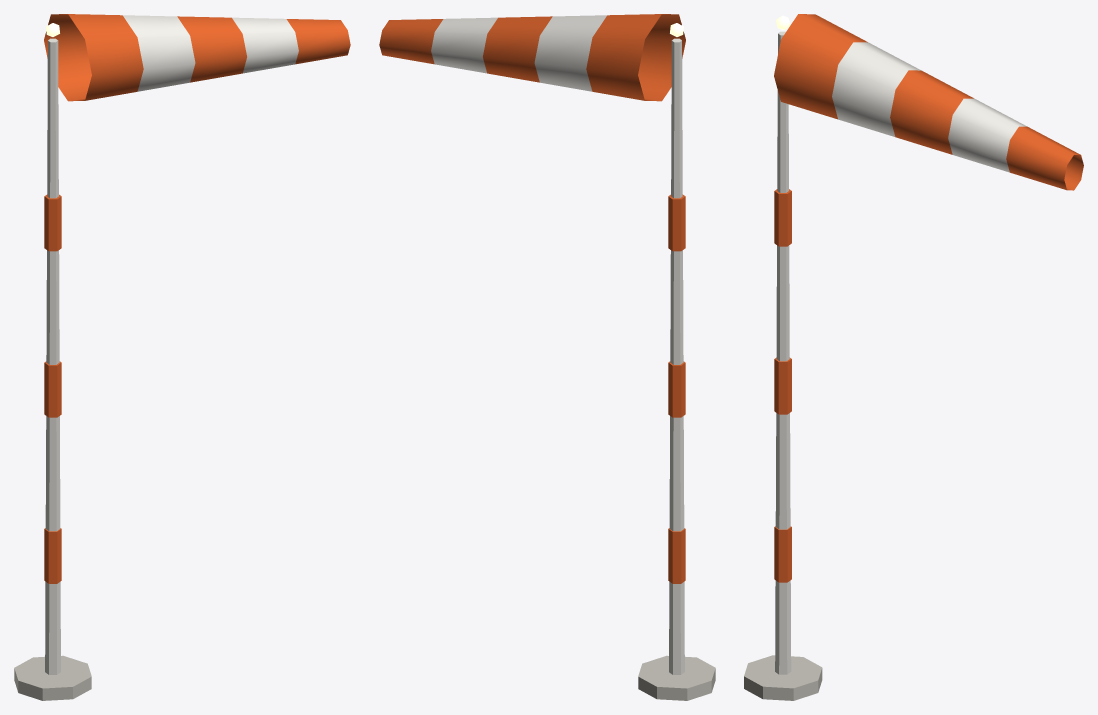
The model's file is windsock.glb.
The picture shows the model from 3 angles, left to right: view 1: azimuth 30°, elevation 25°; view 2: azimuth 150°, elevation 25°; view 3: azimuth 330°, elevation 25°; orthographic projection.
Parts seen in each view (by area): view 1: windsock_mesh; view 2: windsock_mesh; view 3: windsock_mesh.
Boxes of the visible parts, x1=… form: windsock_mesh: x1=14, y1=14, x2=350, y2=700; windsock_mesh: x1=379, y1=14, x2=715, y2=700; windsock_mesh: x1=744, y1=14, x2=1083, y2=700.
Size of the model in its own units: 3.25 by 6.42 by 0.84.
